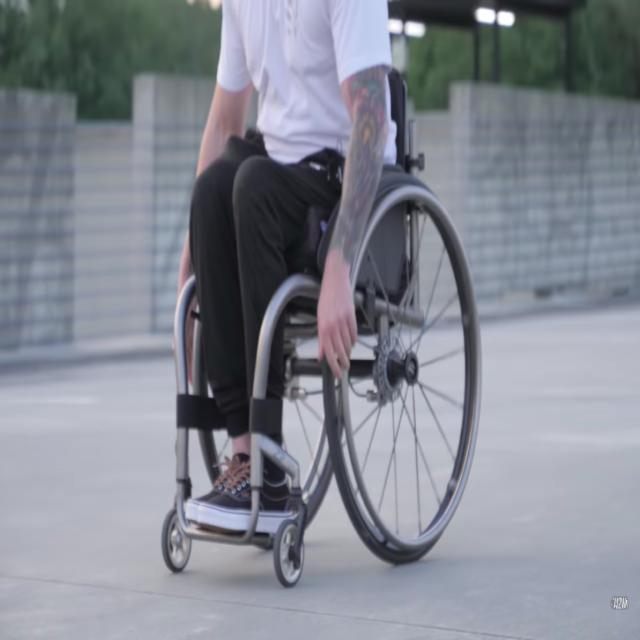wheelchairs: (155, 142, 486, 583)
